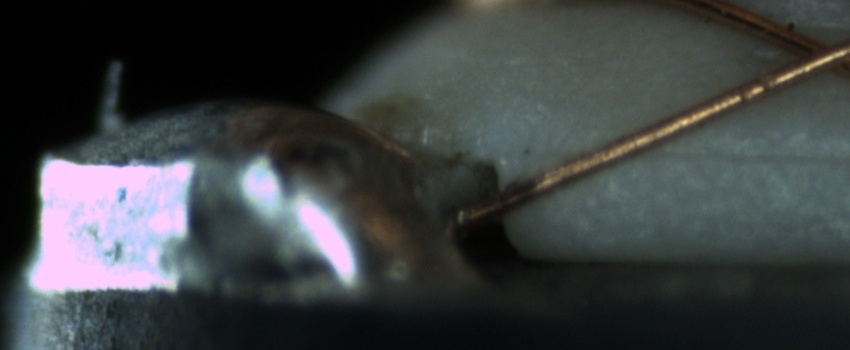CL: (762, 23, 850, 87)
DL: (618, 118, 847, 188)
